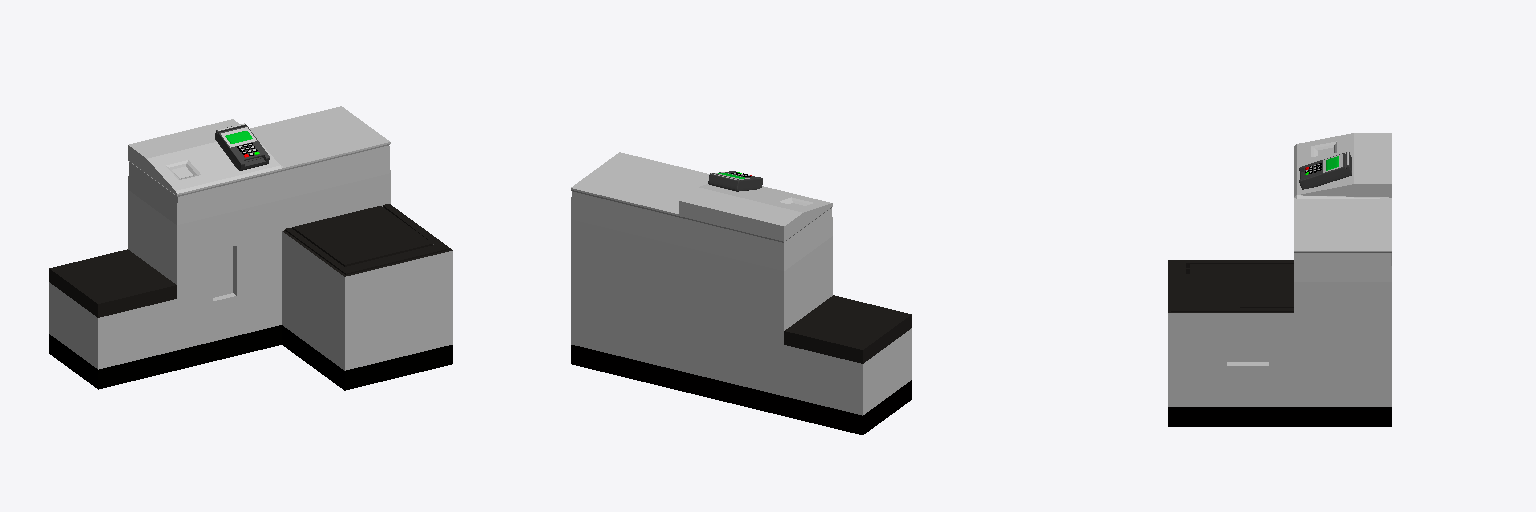
The model's file is selfservice.obj.
The picture shows the model from 3 angles: view 1: azimuth 30°, elevation 25°; view 2: azimuth 150°, elevation 25°; view 3: azimuth 270°, elevation 25°; orthographic projection.
Visible parts, largest first — view 1: Cube.001, Cube.002; view 2: Cube.001, Cube.002; view 3: Cube.001, Cube, Cube.002.
Boxes of the visible parts, x1=… form: Cube.001: x1=49, y1=106, x2=452, y2=390; Cube.002: x1=215, y1=123, x2=269, y2=170; Cube.001: x1=571, y1=152, x2=911, y2=434; Cube.002: x1=708, y1=171, x2=762, y2=191; Cube.001: x1=1168, y1=133, x2=1391, y2=426; Cube: x1=1227, y1=362, x2=1268, y2=403; Cube.002: x1=1299, y1=152, x2=1351, y2=189.
Bounding box in the file's own units: 16.65 × 10.74 × 10.68.